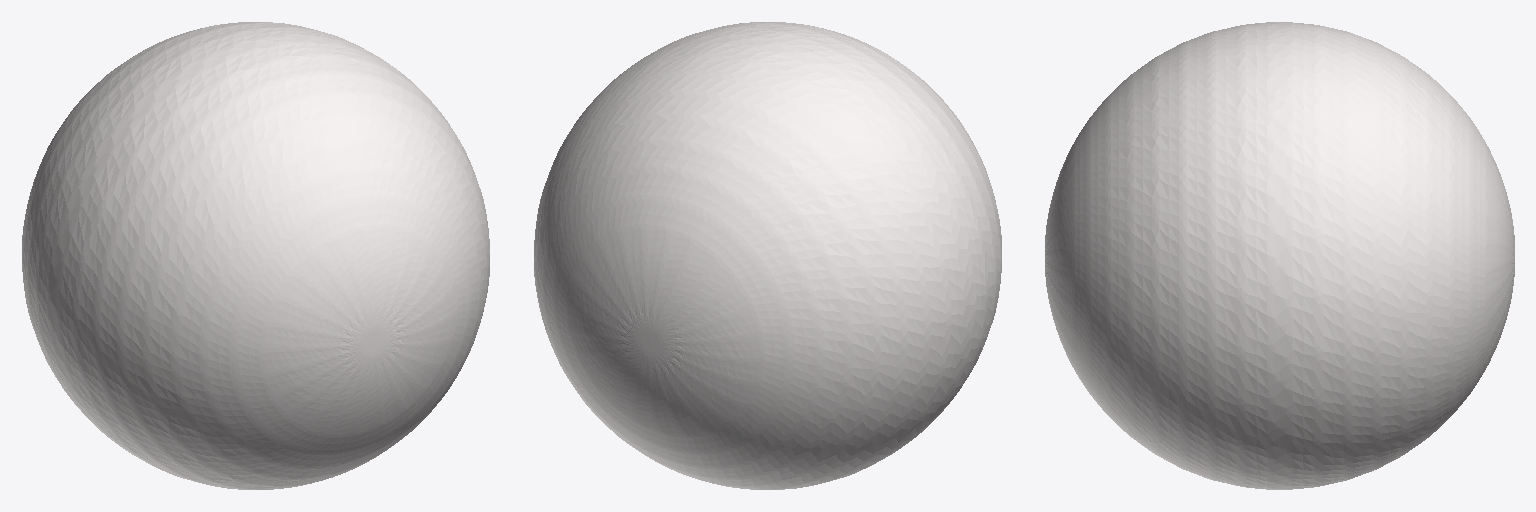
File: ball.obj
The picture shows the model from 3 angles: view 1: azimuth 30°, elevation 25°; view 2: azimuth 150°, elevation 25°; view 3: azimuth 270°, elevation 25°; orthographic projection.
Parts seen in each view (by area): view 1: Object.1; view 2: Object.1; view 3: Object.1.
Part boxes in pixels (bbox=[...]): Object.1: bbox=[22, 22, 489, 489]; Object.1: bbox=[534, 22, 1001, 489]; Object.1: bbox=[1045, 22, 1514, 489].
Size of the model in its own units: 139 by 139 by 140.